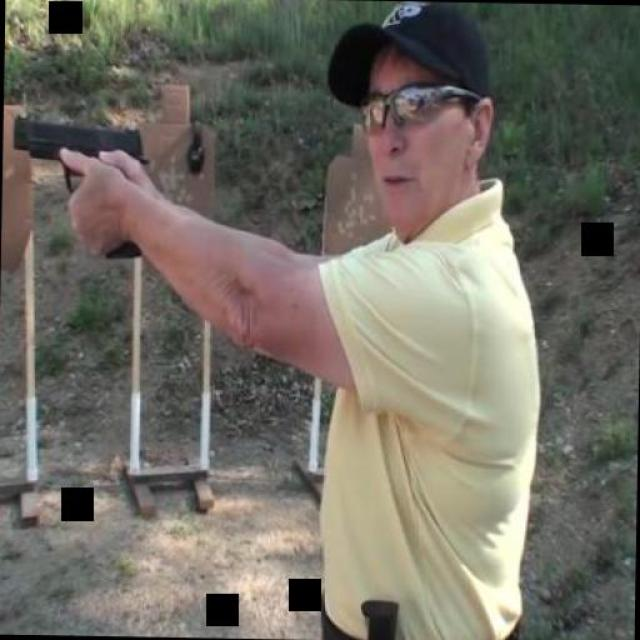gun: (5, 115, 149, 259)
